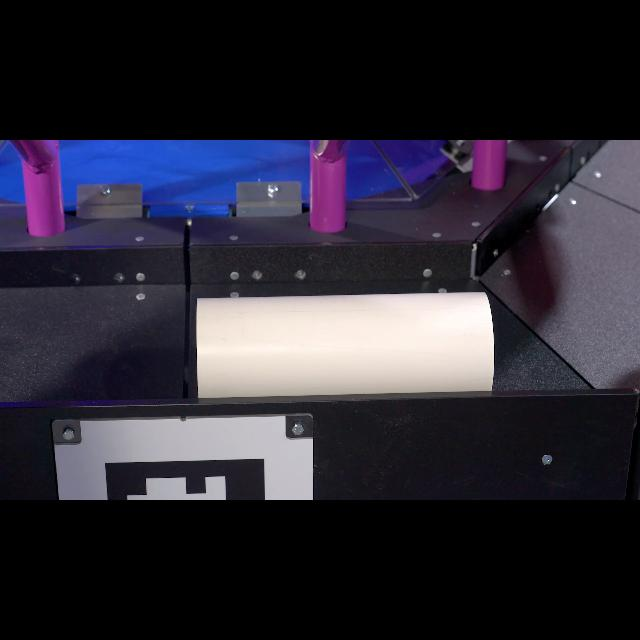CORAL: (195, 290, 495, 398)
